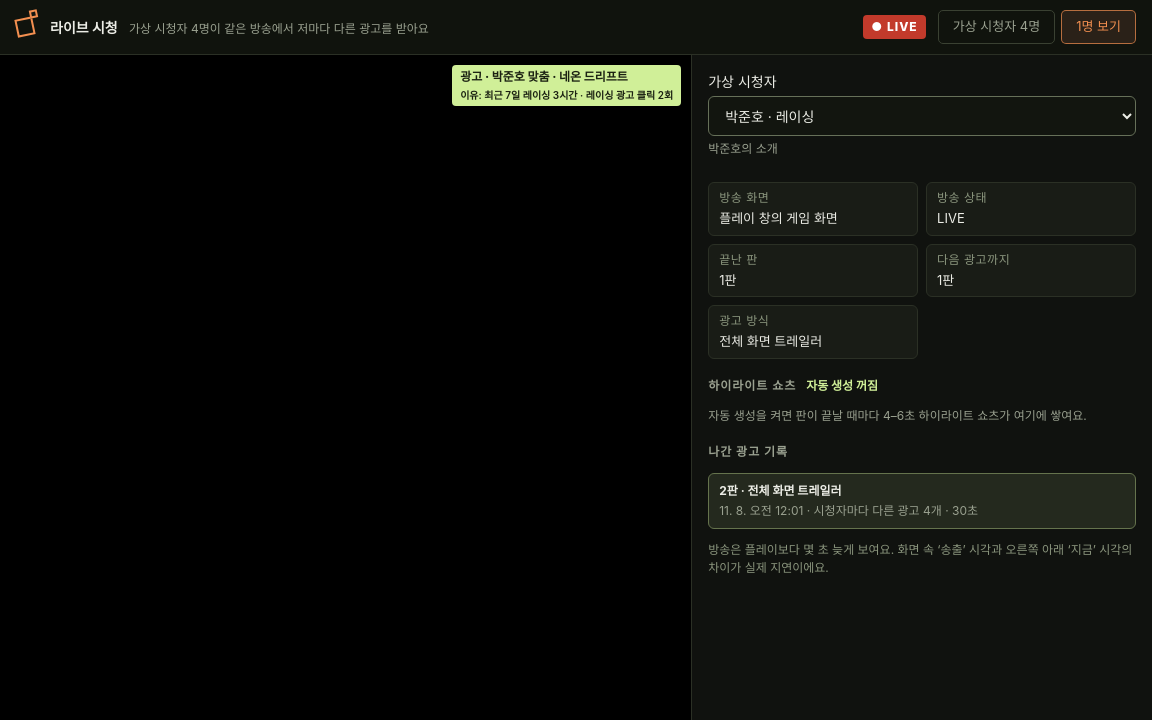
1명 보기: one big player as one viewer › an old persona link opens its viewer, and the badge names the viewer, the trailer and why
The width and height of the screenshot is (1152, 720).
Select "기본 (시청자 정보 없음)" in the dropdown named "가상 시청자" at (922, 116), box [708, 96, 1136, 136]
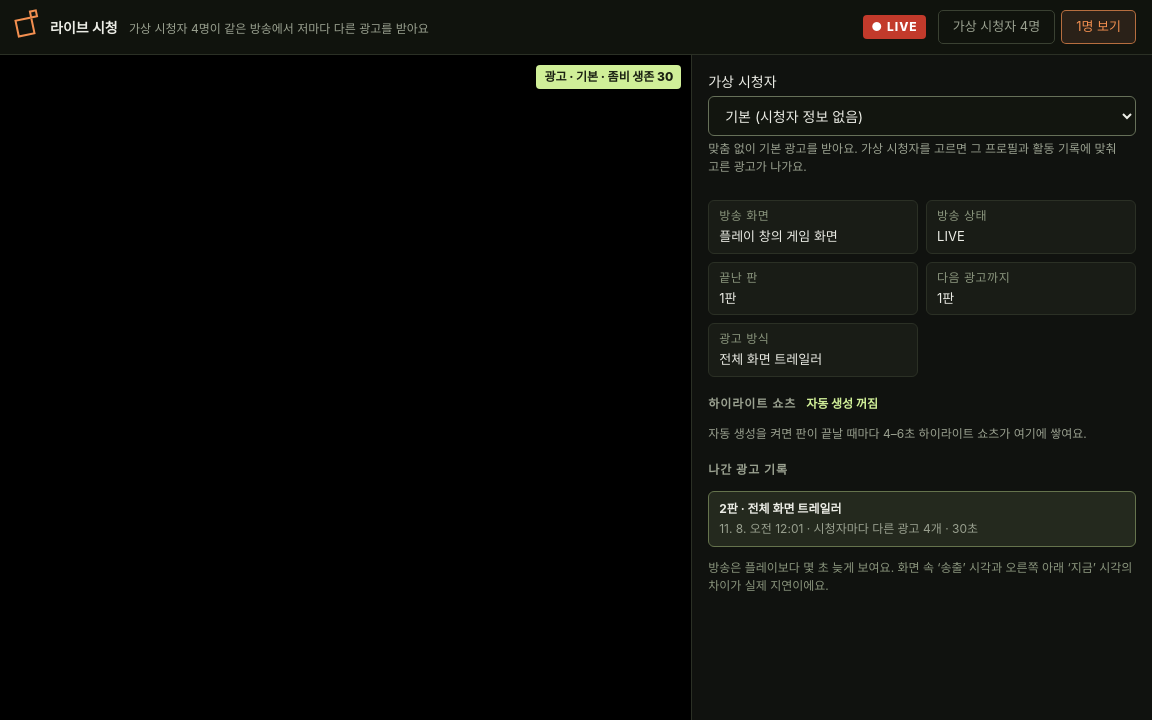
Expected: the text with class "live-ad" reads "광고 · 기본 · 좀비 생존 30", [544, 69, 673, 84]
